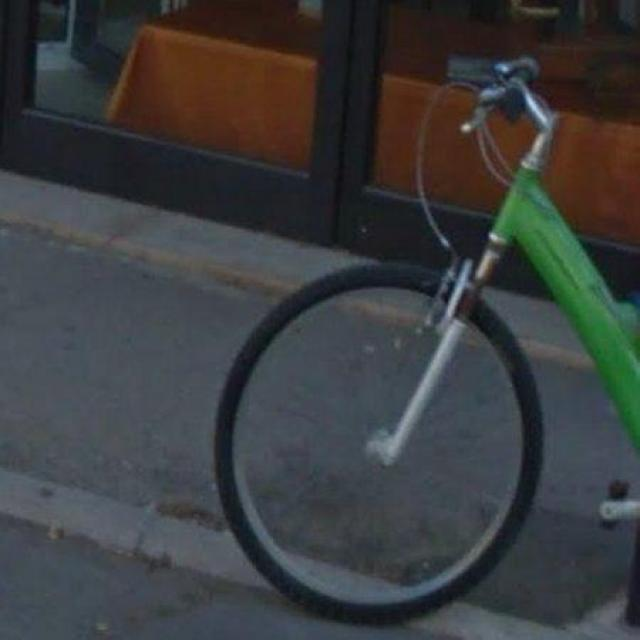bicycle: (216, 58, 640, 625)
